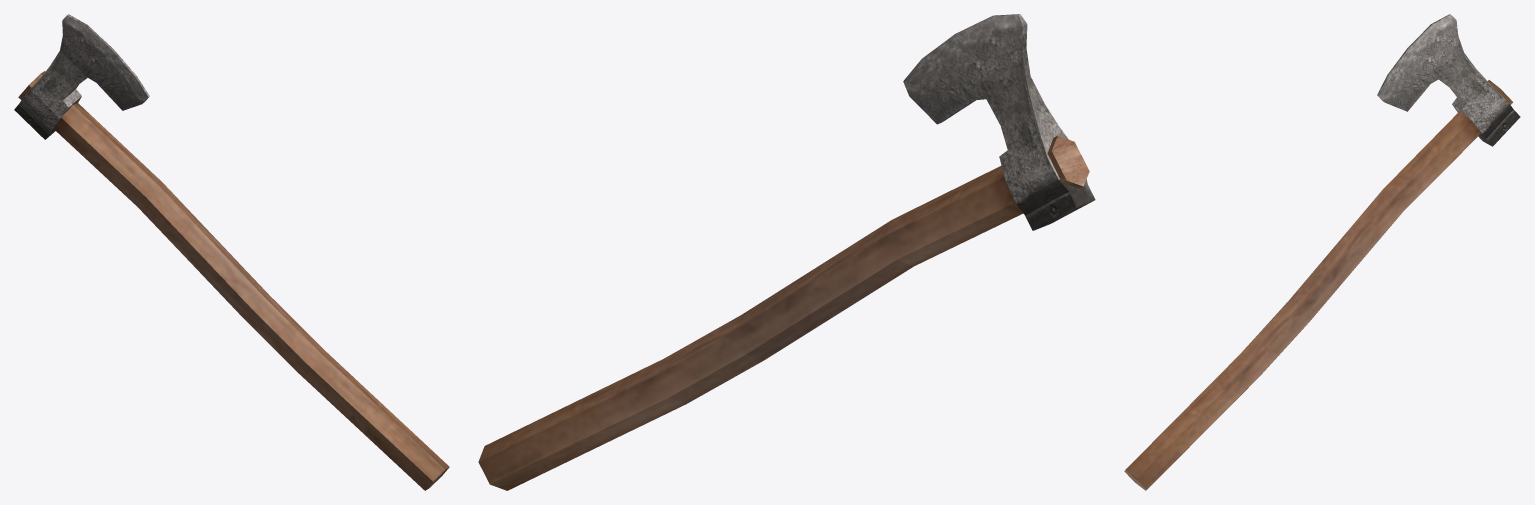
The model's file is ps1_style_axe.glb.
3 views of the same model, side by side, from view 1: azimuth 30°, elevation 25°; view 2: azimuth 210°, elevation 25°; view 3: azimuth 270°, elevation 25° (orthographic). The views are drawn at different scales.
Parts seen in each view (by area): view 1: Cylinder, Cube; view 2: Cylinder, Cube; view 3: Cylinder, Cube.
Boxes of the visible parts, box(x1,y1,x2,y2) form: Cylinder: box(18, 71, 449, 490); Cube: box(14, 14, 149, 139); Cylinder: box(478, 135, 1089, 490); Cube: box(903, 14, 1095, 230); Cylinder: box(1124, 80, 1513, 490); Cube: box(1377, 14, 1520, 146).
Size of the model in its own units: 5.84 by 9.44 by 8.83.
Materials: 1 (1 with a texture image).
